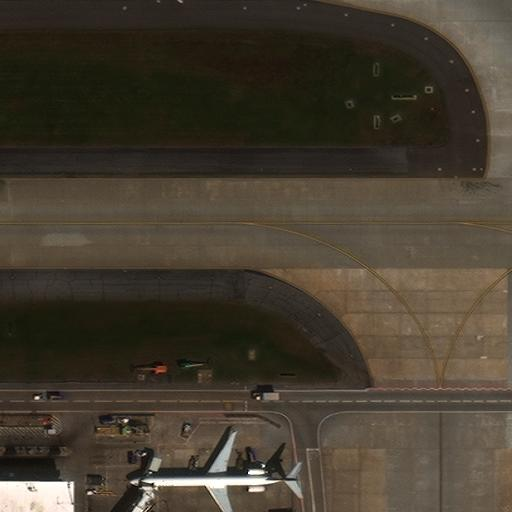Medium Civil Transport: (128, 433, 298, 512)
